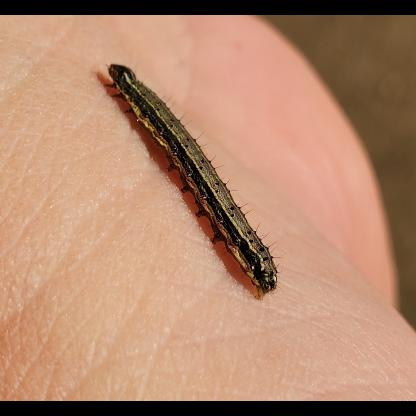Fall Armyworm Larvae: (100, 59, 286, 305)
